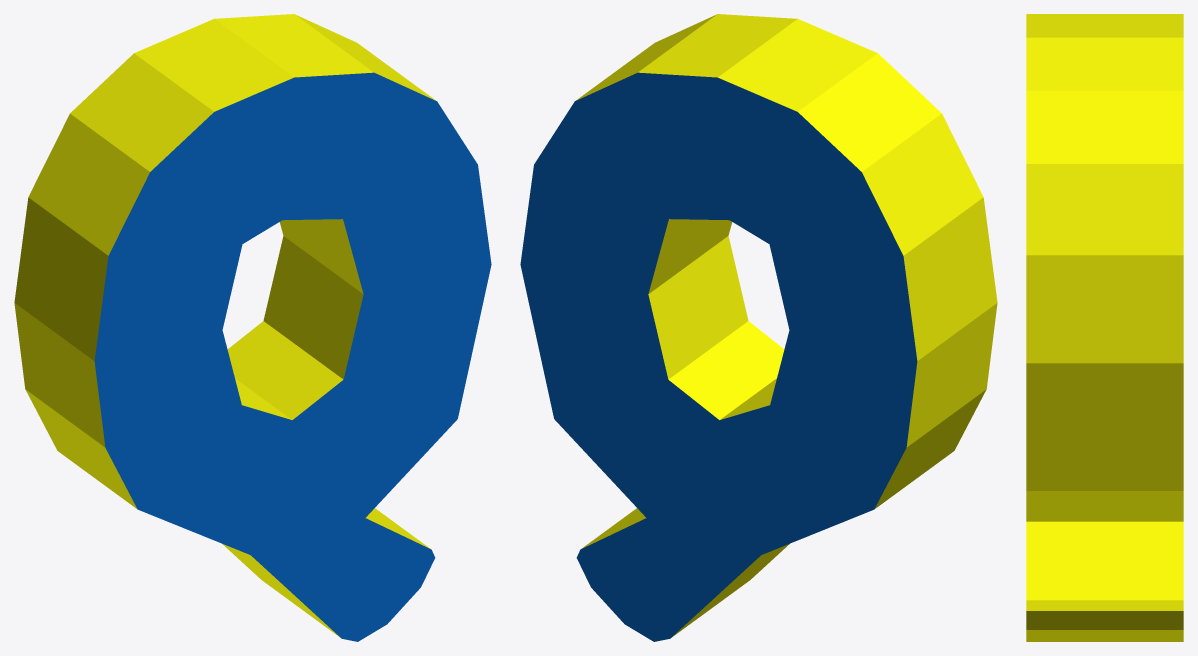
3 views of the same model, side by side, from view 1: azimuth 30°, elevation 25°; view 2: azimuth 150°, elevation 25°; view 3: azimuth 270°, elevation 25° (orthographic).
Parts seen in each view (by area): view 1: text: ABCDEFGHIJKLMNOPQRSTUVWXYZ01234567891_sep17_blue, text: ABCDEFGHIJKLMNOPQRSTUVWXYZ01234567891_sep17_yellow; view 2: text: ABCDEFGHIJKLMNOPQRSTUVWXYZ01234567891_sep17_blue, text: ABCDEFGHIJKLMNOPQRSTUVWXYZ01234567891_sep17_yellow; view 3: text: ABCDEFGHIJKLMNOPQRSTUVWXYZ01234567891_sep17_yellow.
Part boxes in pixels (x1,y1,x2,y2): text: ABCDEFGHIJKLMNOPQRSTUVWXYZ01234567891_sep17_blue: (94, 72, 491, 641); text: ABCDEFGHIJKLMNOPQRSTUVWXYZ01234567891_sep17_yellow: (14, 14, 435, 637); text: ABCDEFGHIJKLMNOPQRSTUVWXYZ01234567891_sep17_blue: (520, 72, 917, 641); text: ABCDEFGHIJKLMNOPQRSTUVWXYZ01234567891_sep17_yellow: (576, 14, 997, 637); text: ABCDEFGHIJKLMNOPQRSTUVWXYZ01234567891_sep17_yellow: (1026, 14, 1183, 641).
Size of the model in its own units: 71.46 by 99.78 by 25.
